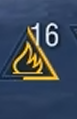1fire: (1, 48, 61, 83)
